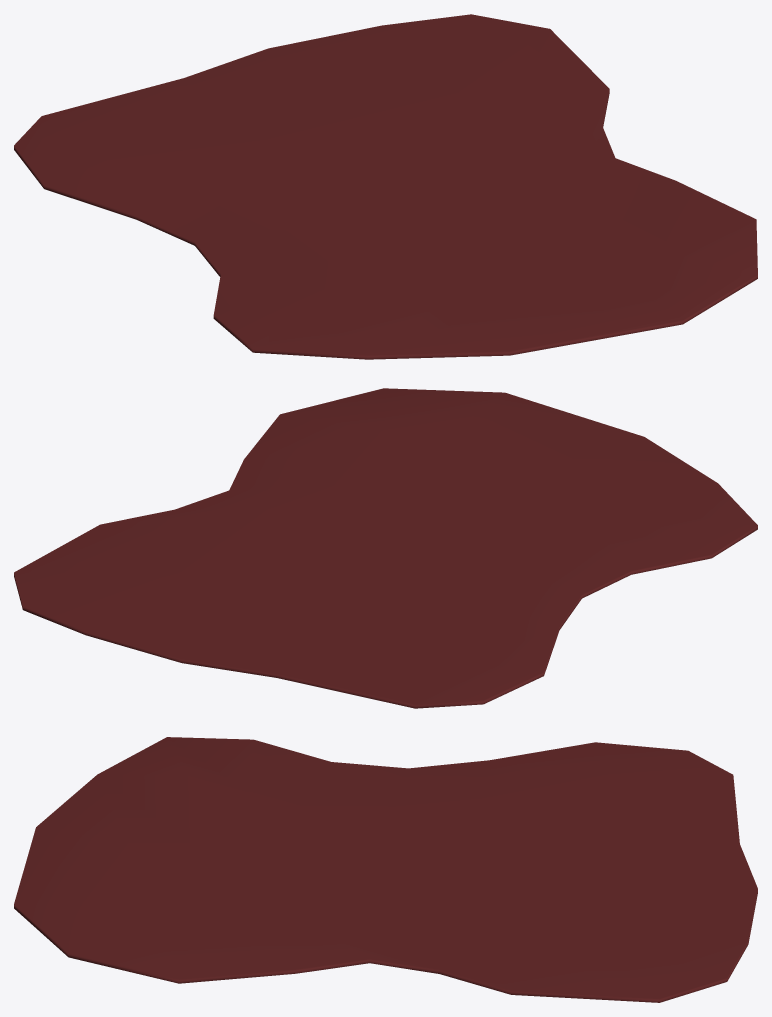
The model's file is CharcoDeAgua1_FBX.fbx.
3 renders of one model, top to bottom at view 1: azimuth 30°, elevation 25°; view 2: azimuth 150°, elevation 25°; view 3: azimuth 270°, elevation 25°, orthographic. The views are drawn at different scales.
Visible parts, largest first — view 1: pPlane1; view 2: pPlane1; view 3: pPlane1.
Part boxes in pixels (left/top/right/bottom): pPlane1: left=14, top=14, right=757, bottom=359; pPlane1: left=14, top=388, right=757, bottom=708; pPlane1: left=14, top=737, right=757, bottom=1002.
Size of the model in its own units: 11.06 by 0.0856 by 13.3.
